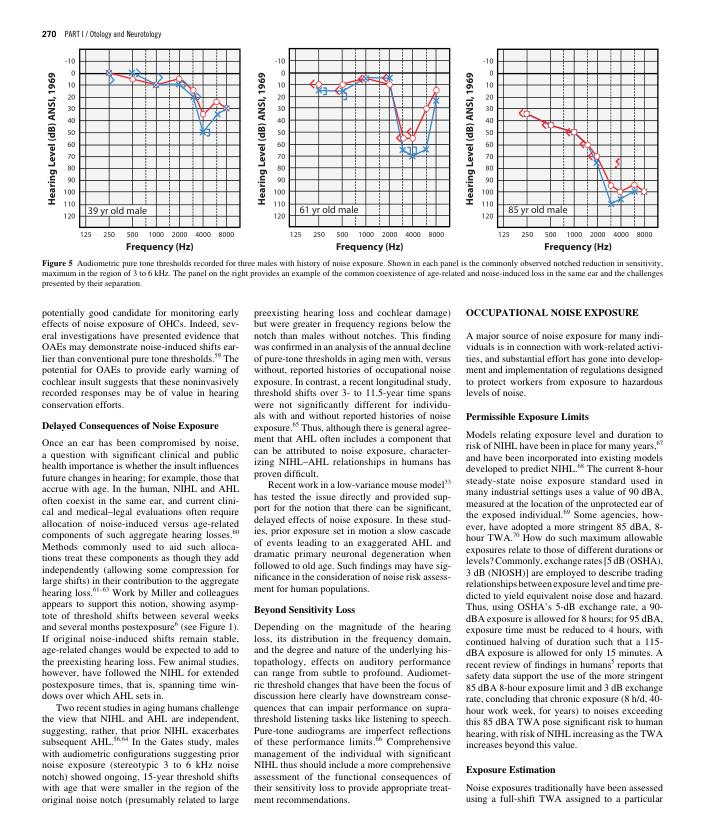caption: (41, 258, 665, 291)
header: (64, 29, 162, 40)
image: (40, 42, 666, 256)
section-heading: (465, 307, 640, 318)
sub-section-heading: (40, 420, 220, 433), (465, 412, 590, 423), (252, 604, 357, 617), (465, 764, 557, 776)
text: (40, 437, 240, 808), (464, 429, 665, 751), (252, 307, 452, 597), (252, 621, 453, 804), (40, 307, 240, 410), (465, 330, 664, 397), (465, 782, 664, 806)
